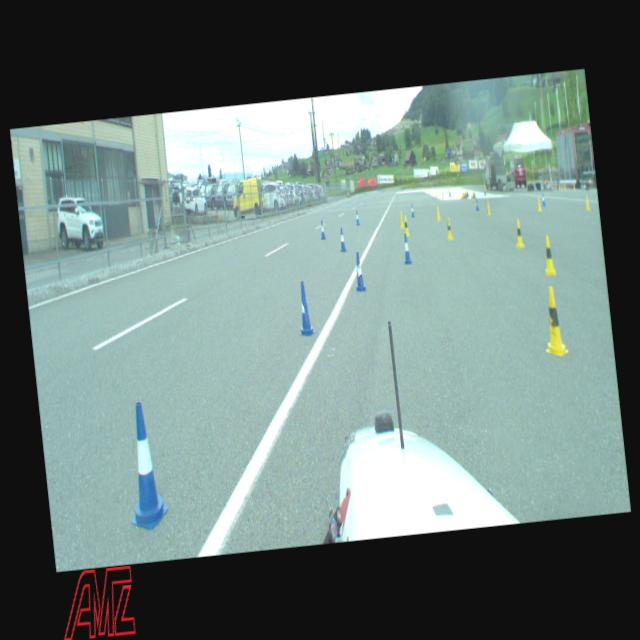blue_cone: (118, 400, 170, 530), (293, 280, 315, 336), (352, 251, 366, 291), (402, 232, 412, 264), (338, 227, 346, 251), (319, 220, 325, 239), (354, 210, 360, 226), (540, 193, 546, 206), (410, 204, 414, 216), (474, 198, 478, 210)
yellow_cone: (539, 286, 569, 356), (542, 236, 556, 276), (514, 220, 524, 248), (444, 217, 452, 240), (403, 216, 409, 236), (398, 210, 404, 228), (435, 205, 441, 221), (584, 194, 590, 210), (536, 197, 541, 210), (486, 201, 490, 214)
